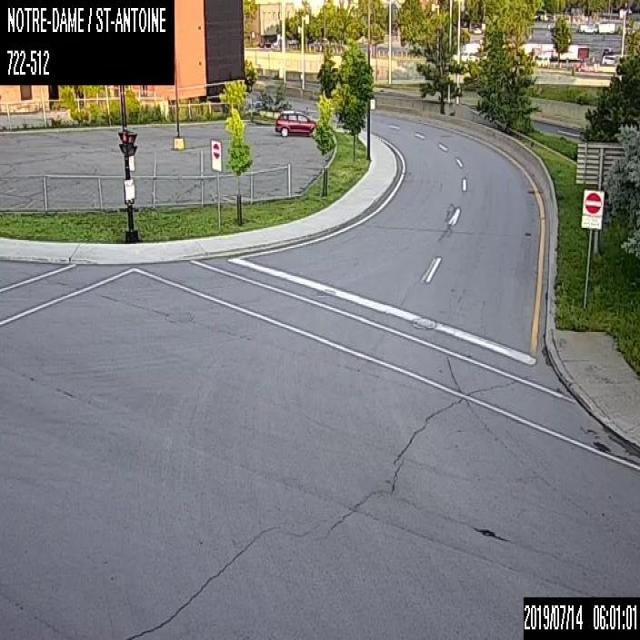vehicle: (274, 109, 317, 136)
